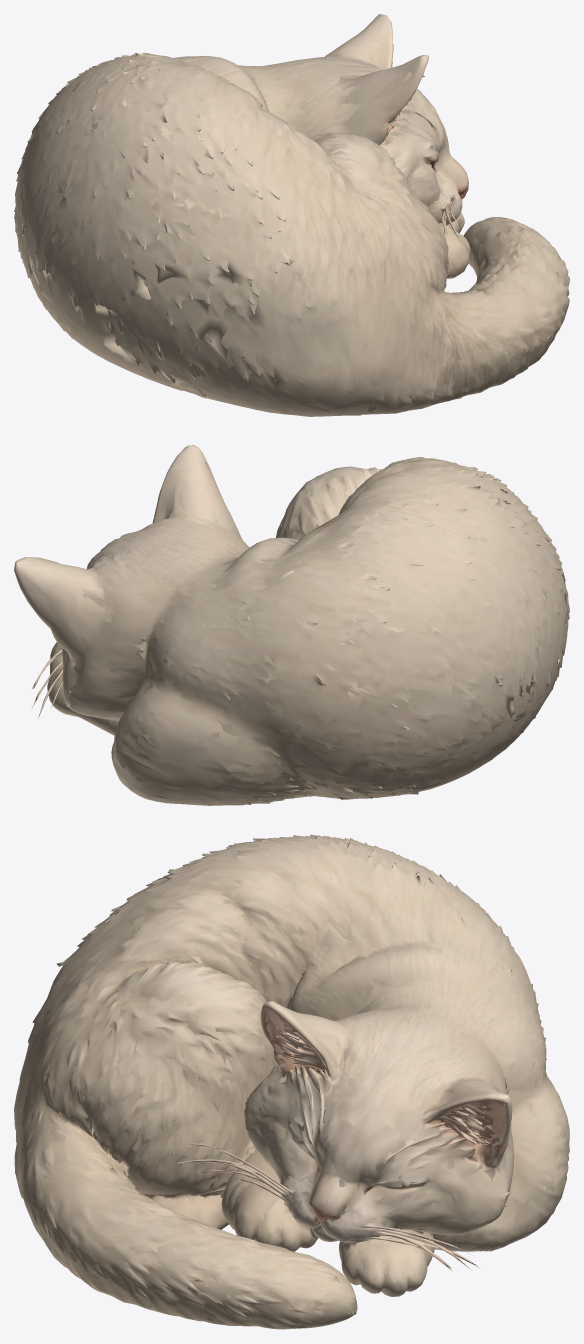
File: diner-cat.glb
3 renders of one model, top to bottom at view 1: azimuth 30°, elevation 25°; view 2: azimuth 150°, elevation 25°; view 3: azimuth 270°, elevation 25°, orthographic. The views are drawn at different scales.
Visible parts, largest first — view 1: Detailed view, Room view; view 2: Detailed view, Room view; view 3: Detailed view, Room view.
Part boxes in pixels (x1,y1,x2,y2): Detailed view: (14,14,569,416); Room view: (14,14,569,416); Detailed view: (14,445,569,805); Room view: (14,446,569,805); Detailed view: (14,834,569,1329); Room view: (14,835,569,1328).
Size of the model in its own units: 0.9636 by 0.5436 by 0.8873.
Materials: 1 (1 with a texture image).
